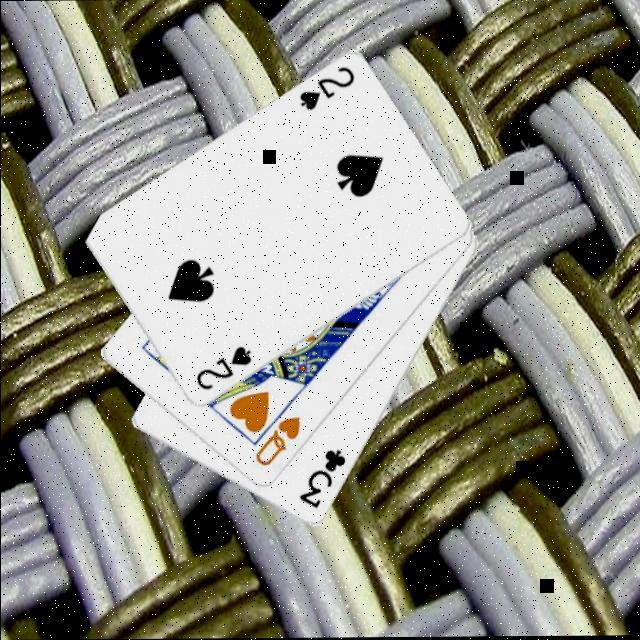2S: (293, 61, 356, 112), (191, 342, 253, 393)
3C: (294, 445, 348, 511)
QH: (250, 412, 302, 468)
